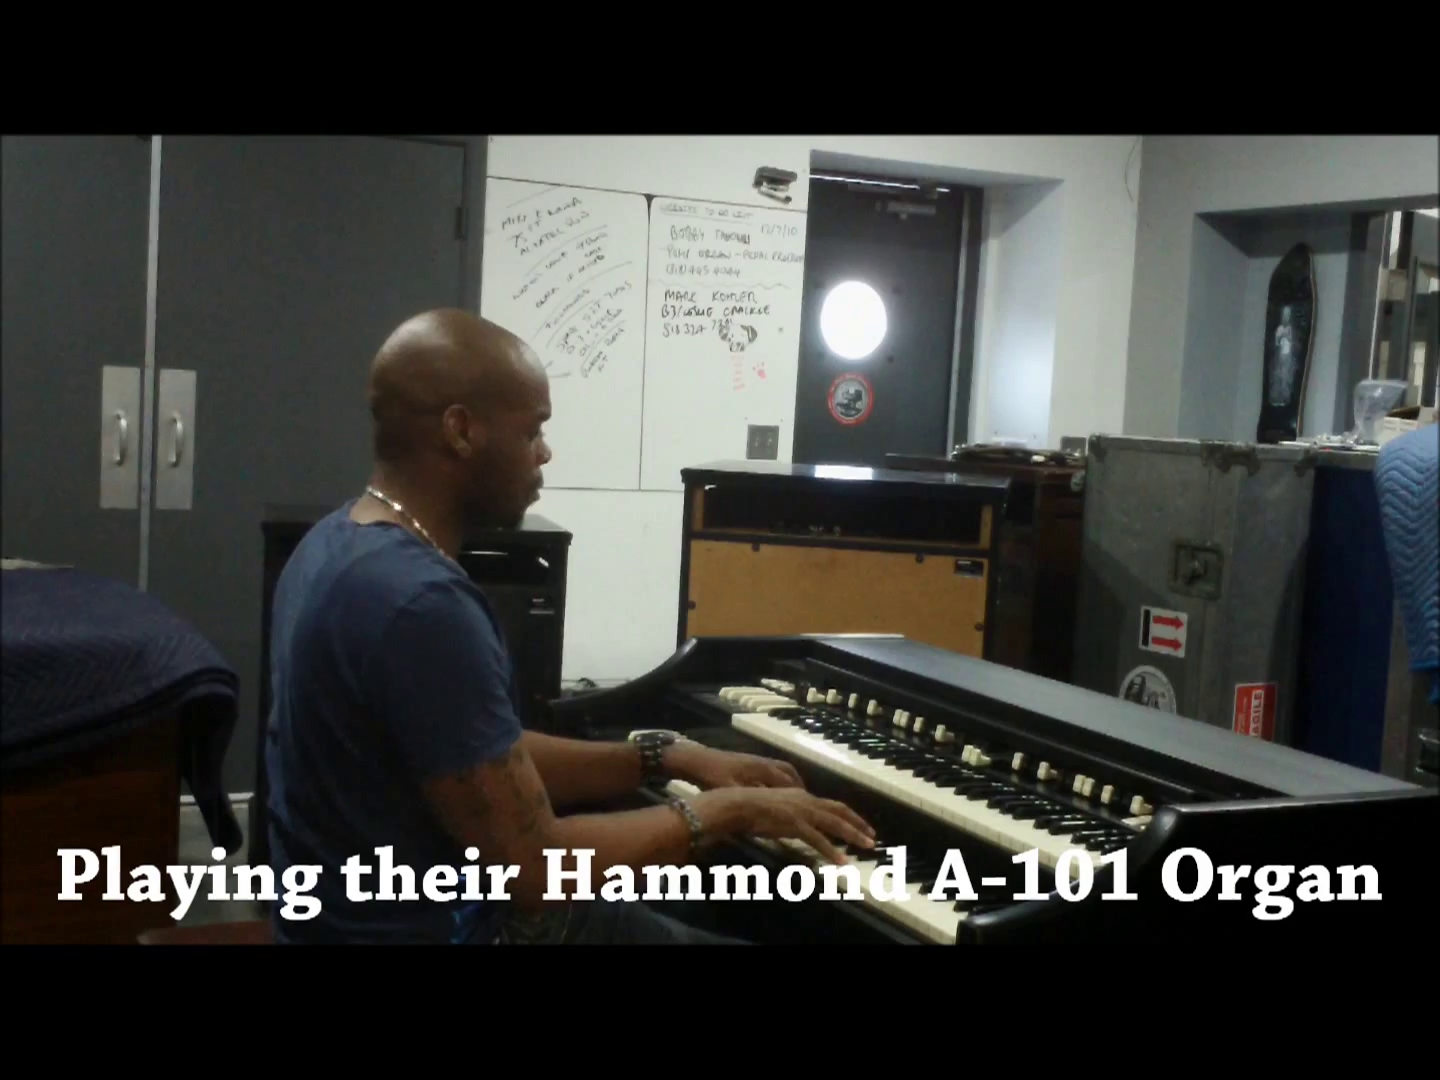person: (262, 307, 877, 945)
